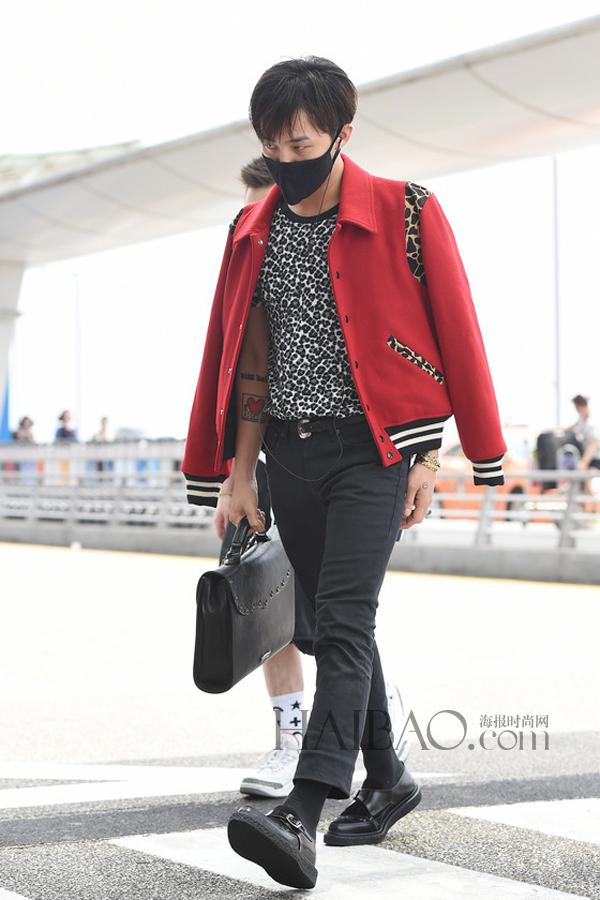OK: (265, 126, 341, 202)
